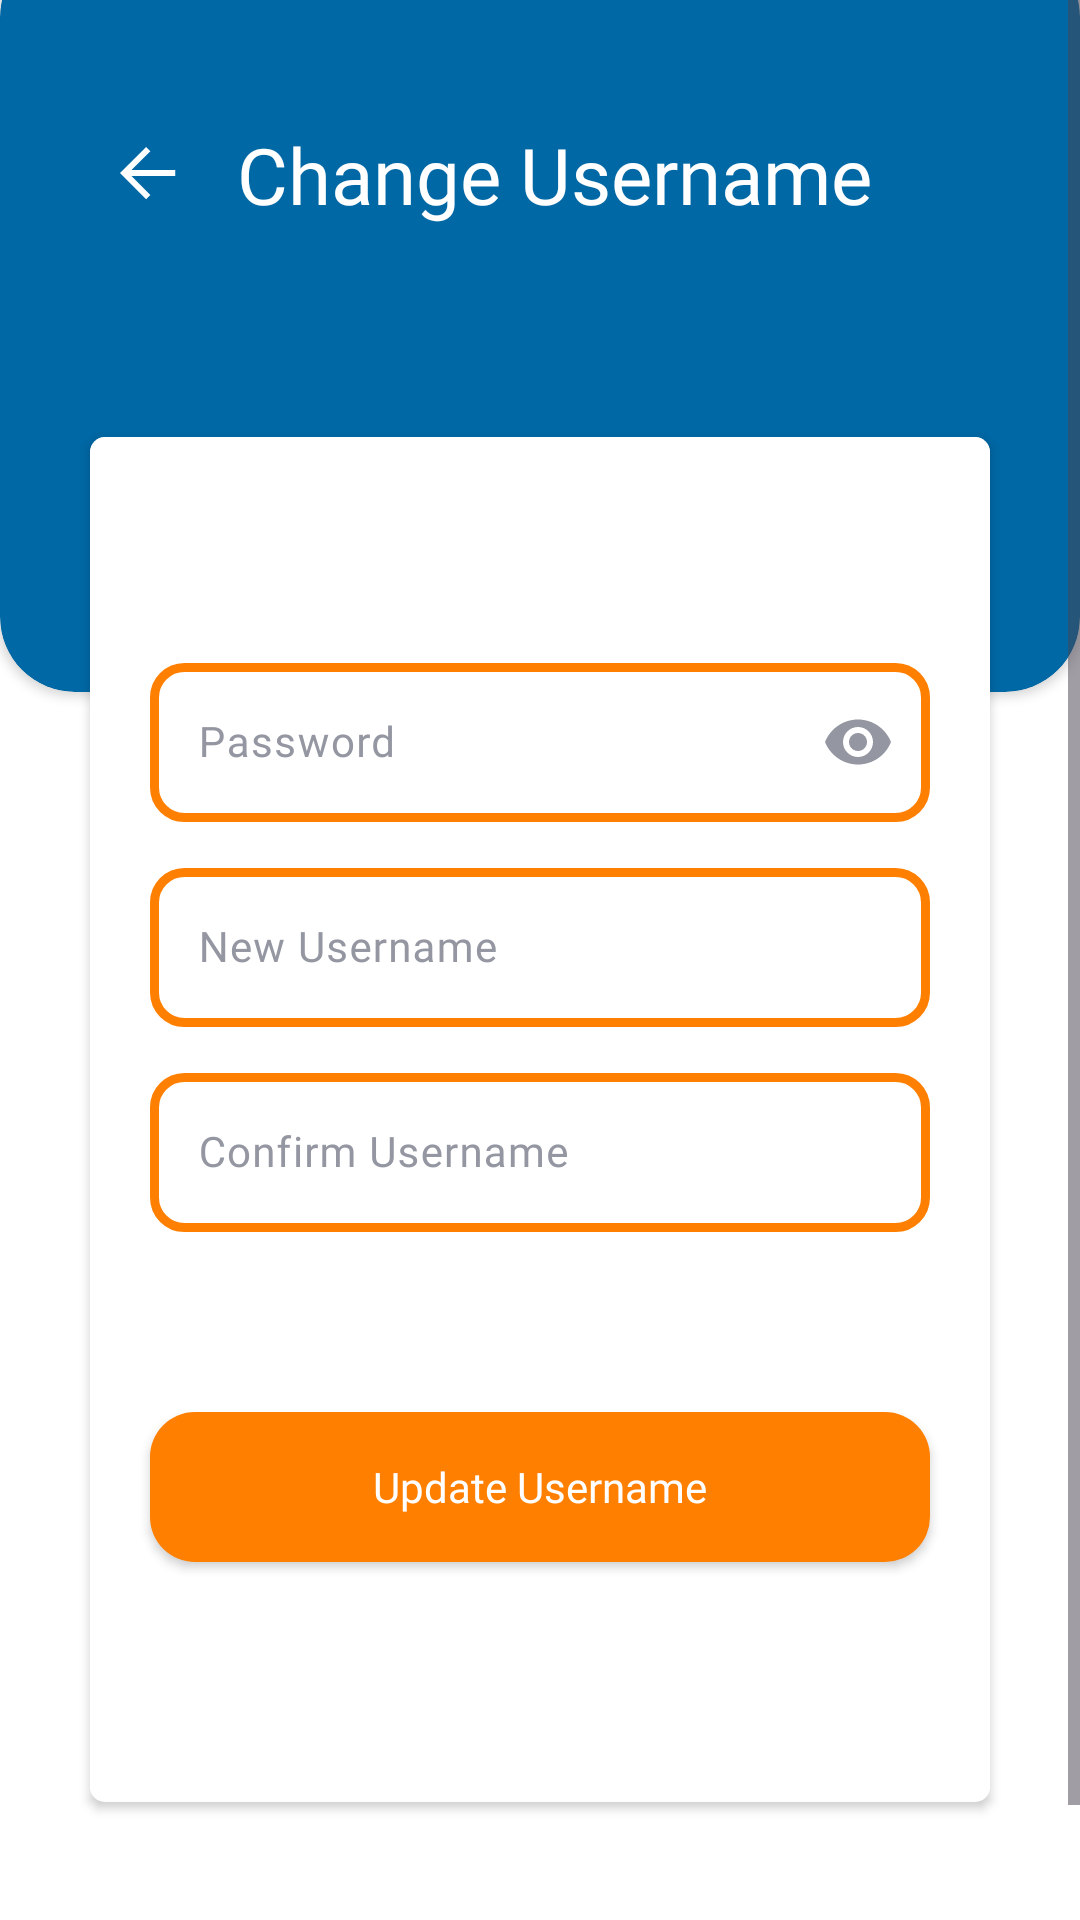

Screen size 1080*1920. Icon name, then its center in pixels as (x=x, y=y):
arrow: (x=148, y=173)
